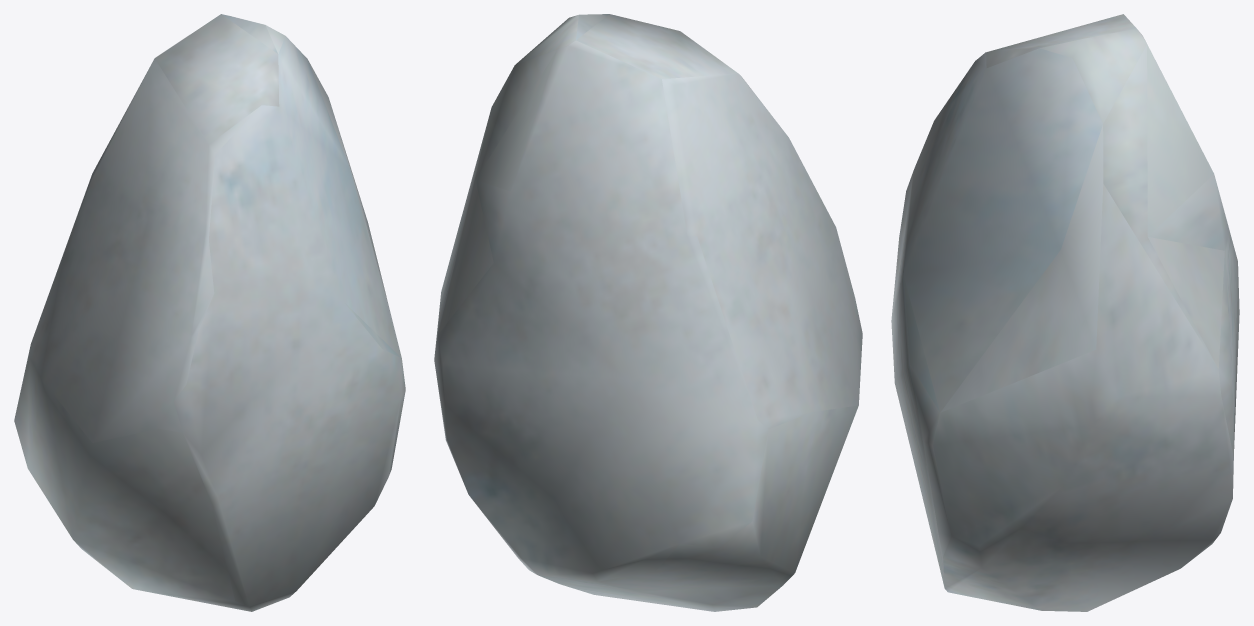
Rendered from P_RockClassic16.obj.
3 views of the same model, side by side, from view 1: azimuth 30°, elevation 25°; view 2: azimuth 150°, elevation 25°; view 3: azimuth 270°, elevation 25° (orthographic). The views are drawn at different scales.
Size of the model in its own units: 2.82 by 4.28 by 2.32.
